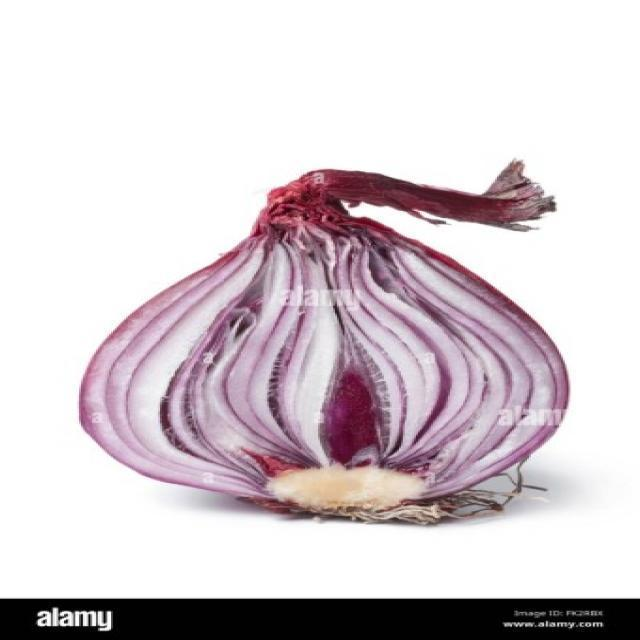Onion: (78, 158, 570, 516)
